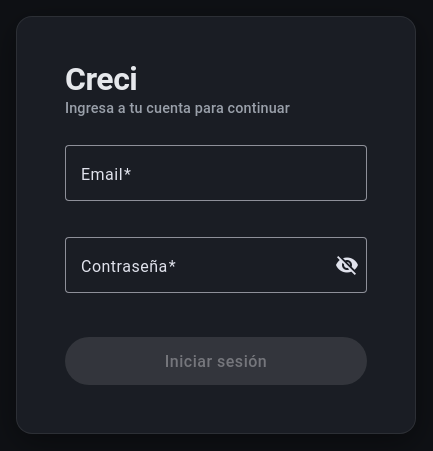
Scenario: LoginComponent › Validación del formulario › debe mostrar error cuando el email es requerido y se pierde el foco
Click the field named "Dirección de email" at (216, 173), box [81,161,351,185]
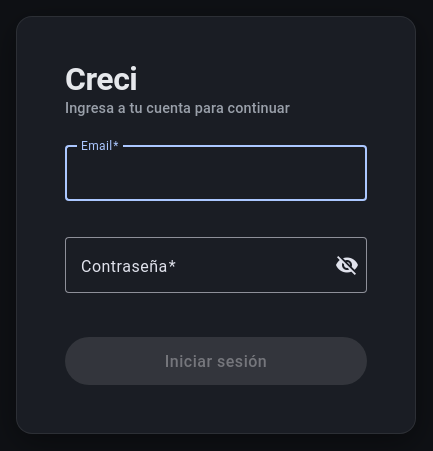
Press Tab
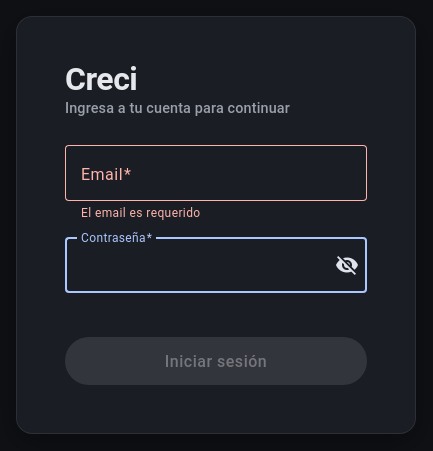
Now the text "El email es requerido" is shown, box [81,206,201,220]
